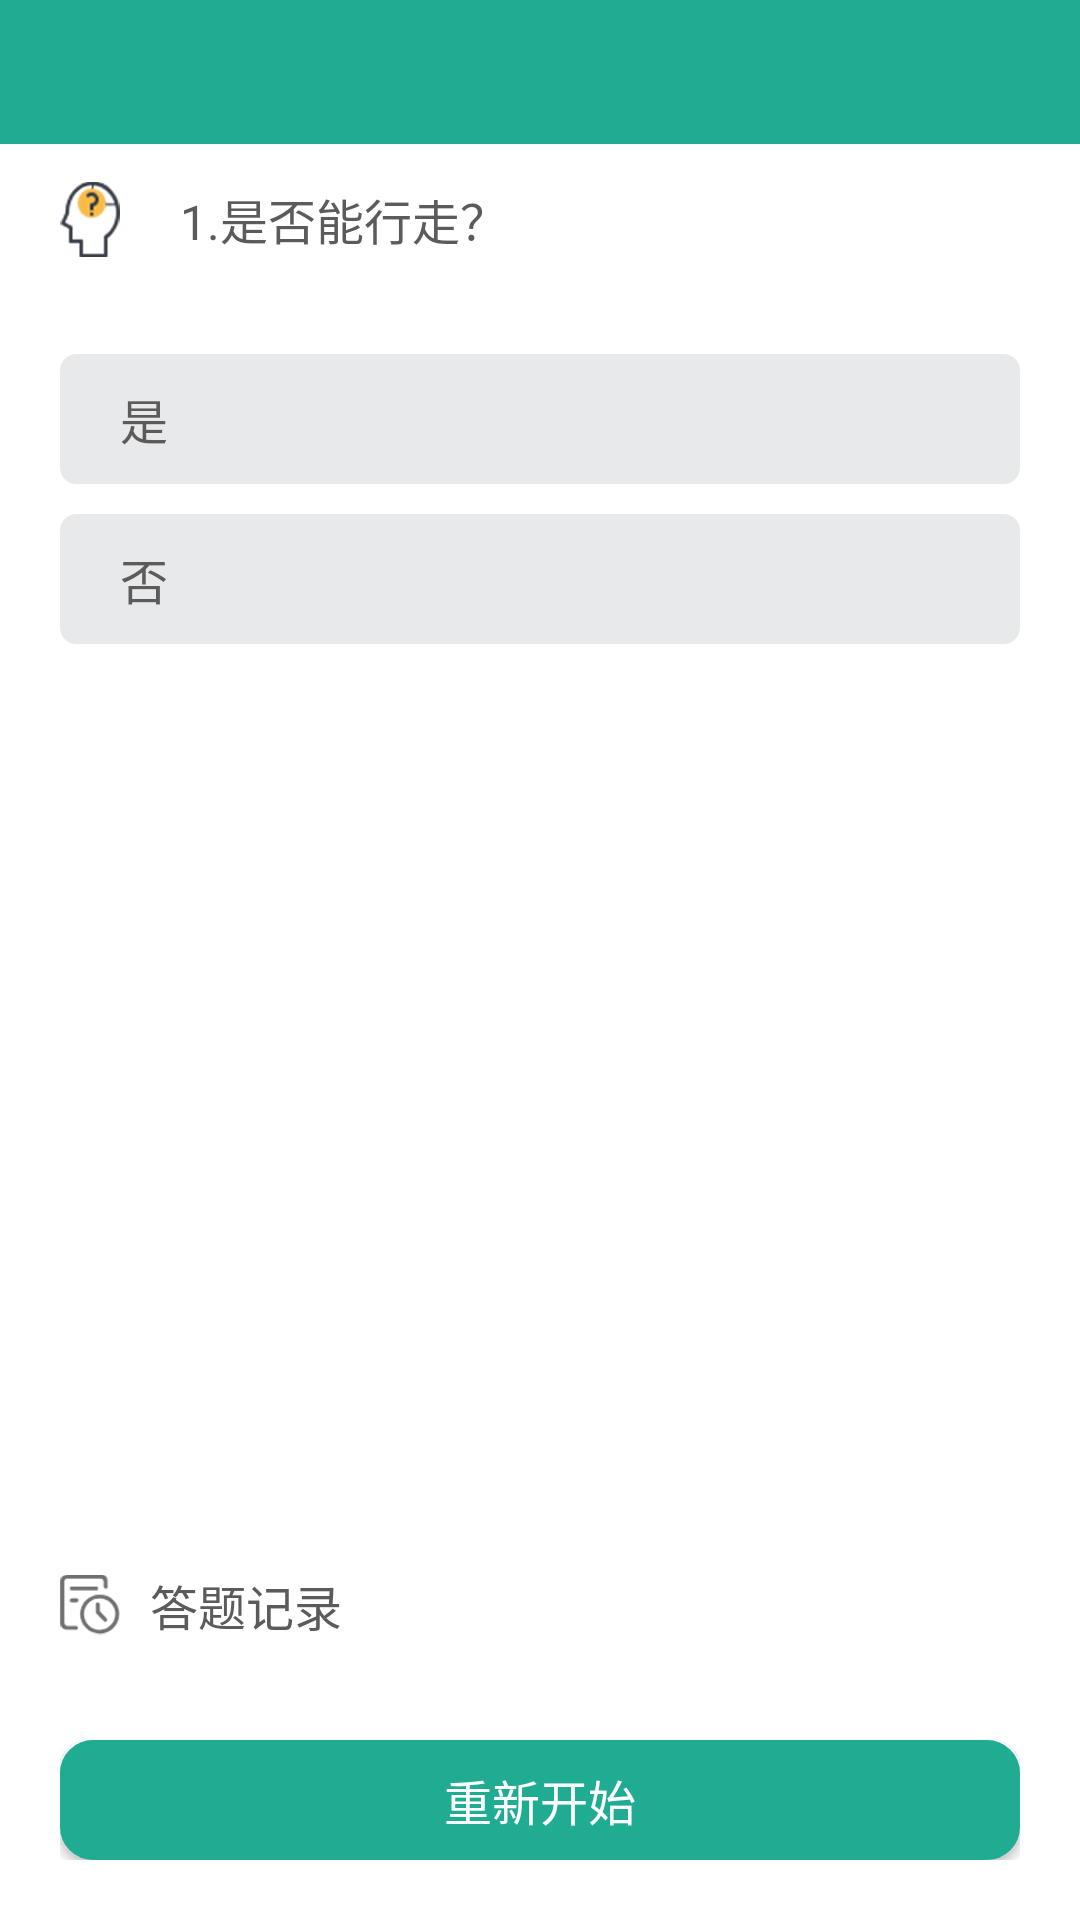

Where to tap for icons on this 1080×1920 app screen, as (x,y):
yiwen: (90,219)
